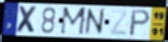8: (41, 6, 57, 35)
M: (59, 6, 88, 37)
N: (84, 8, 106, 37)
P: (127, 9, 152, 38)
X: (15, 4, 39, 35)
Z: (109, 9, 130, 37)
